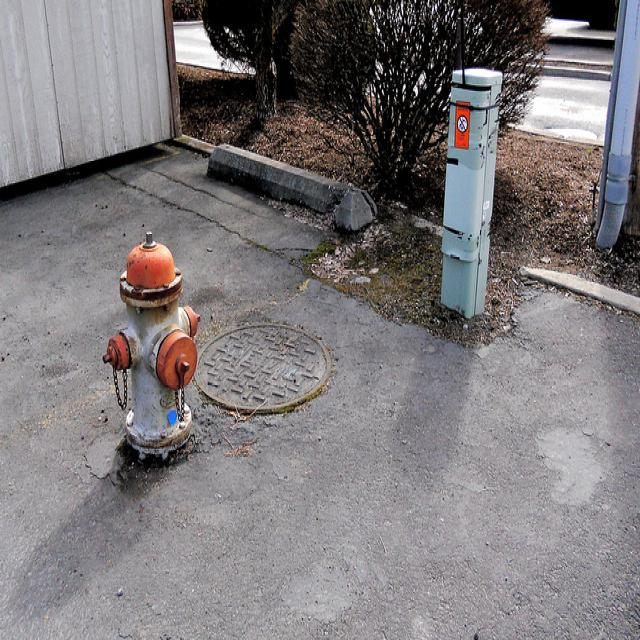fire_hydrant: (98, 230, 203, 462)
